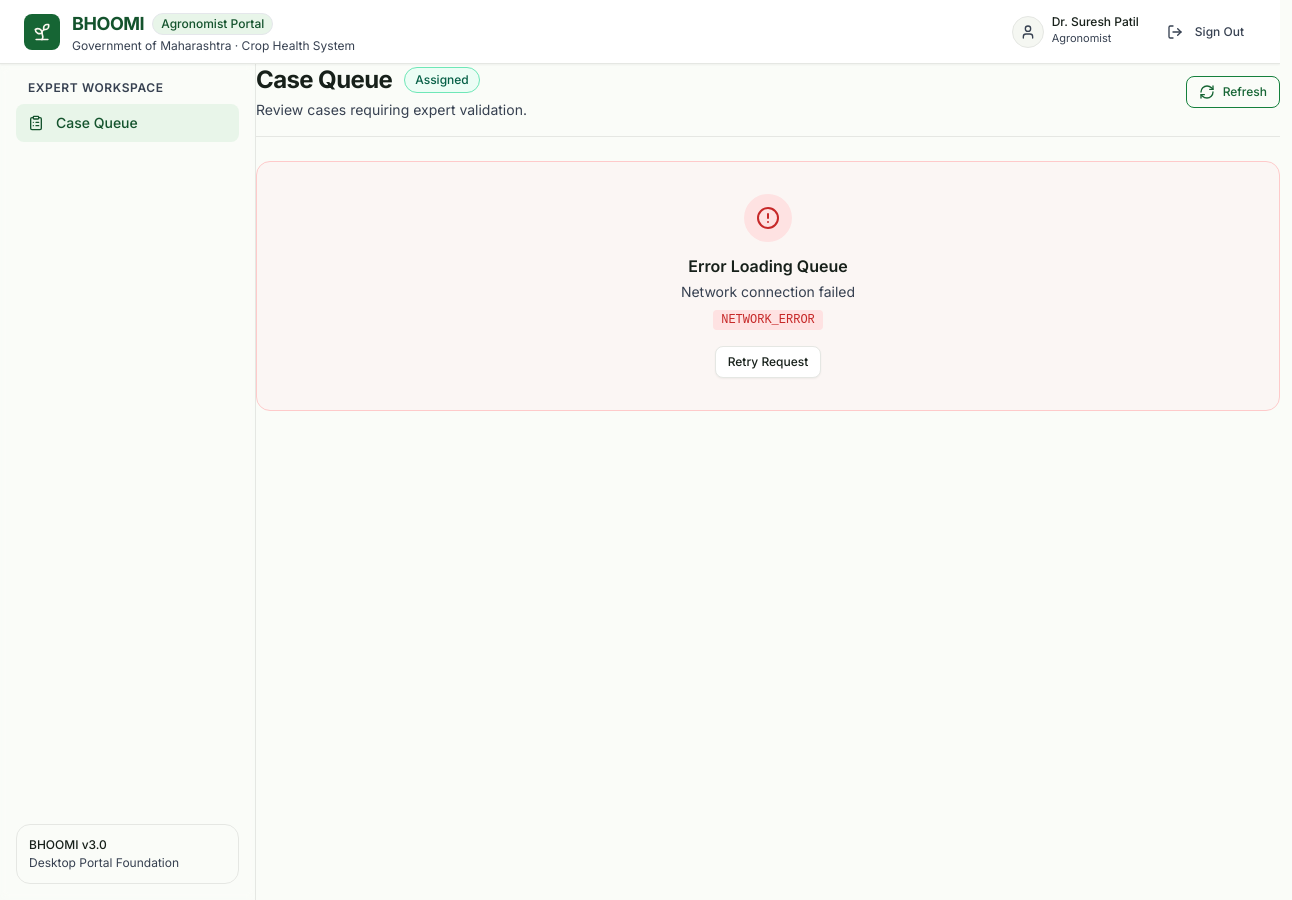
it: F12 — Agronomist Case Queue Tests › renders ErrorState with retry capability when API fails
Expected: the heading "Error Loading Queue" is shown, x1=688 y1=254 x2=848 y2=278
Expected: the text "Network connection failed" is shown, x1=681 y1=282 x2=855 y2=302
Click the button "Retry Request": (768, 362) x1=715 y1=346 x2=821 y2=378
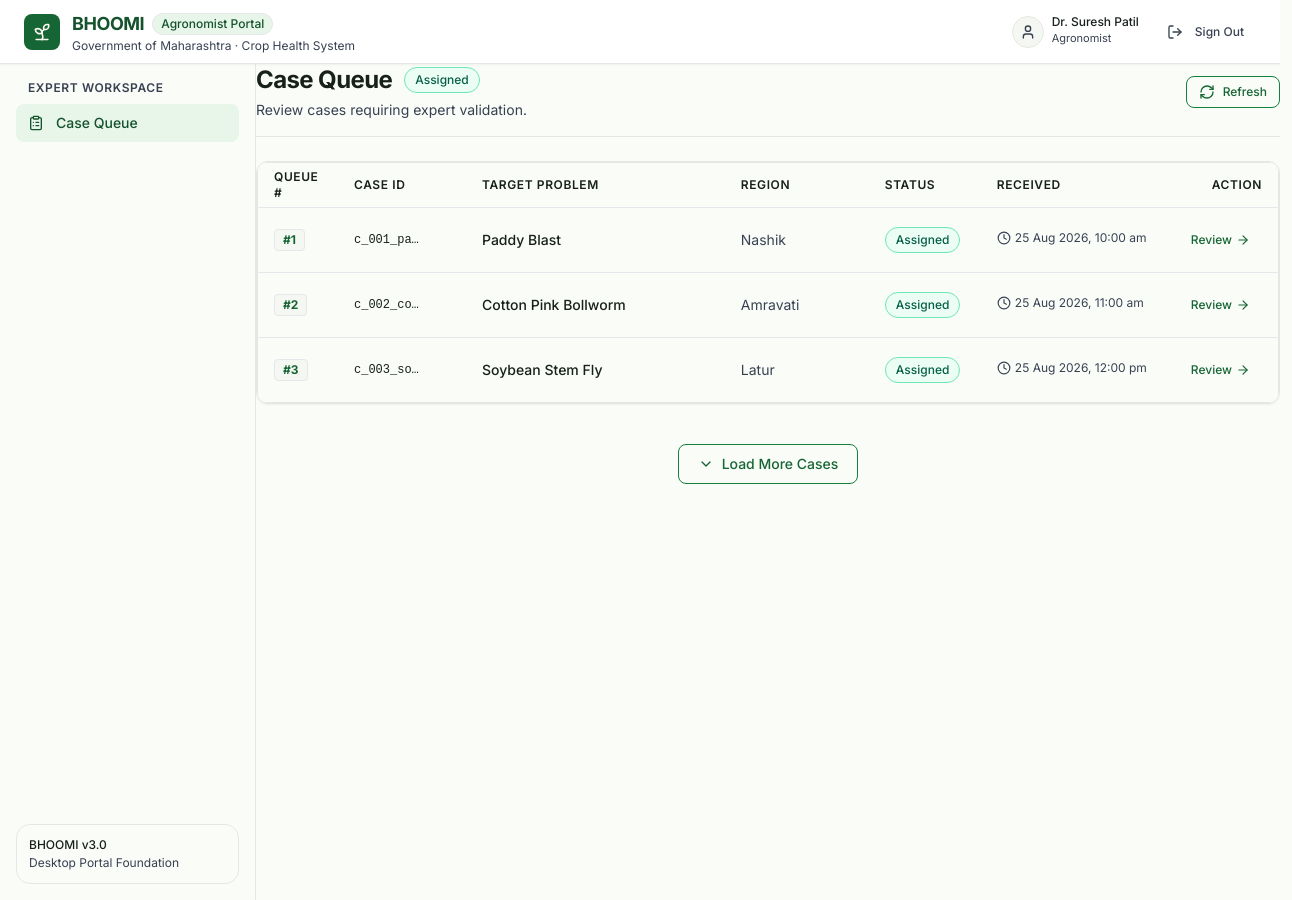
Expected: the text "Paddy Blast" is shown, x1=482 y1=230 x2=561 y2=248
